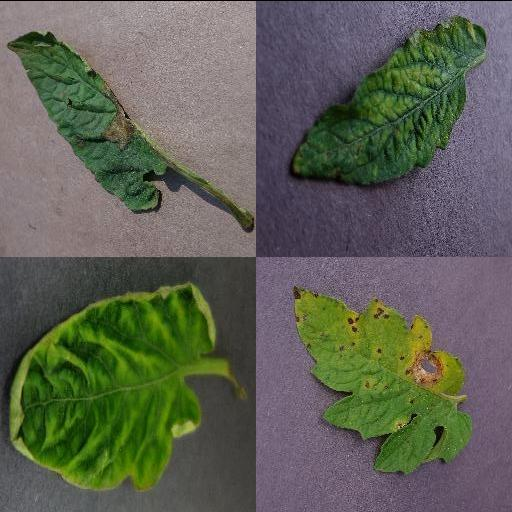Late Blight: (6, 29, 168, 213)
Mosaic Virus: (290, 14, 488, 186)
Septoria: (292, 284, 474, 470)
Yellow Leaf Curl Virus: (7, 281, 217, 491)
